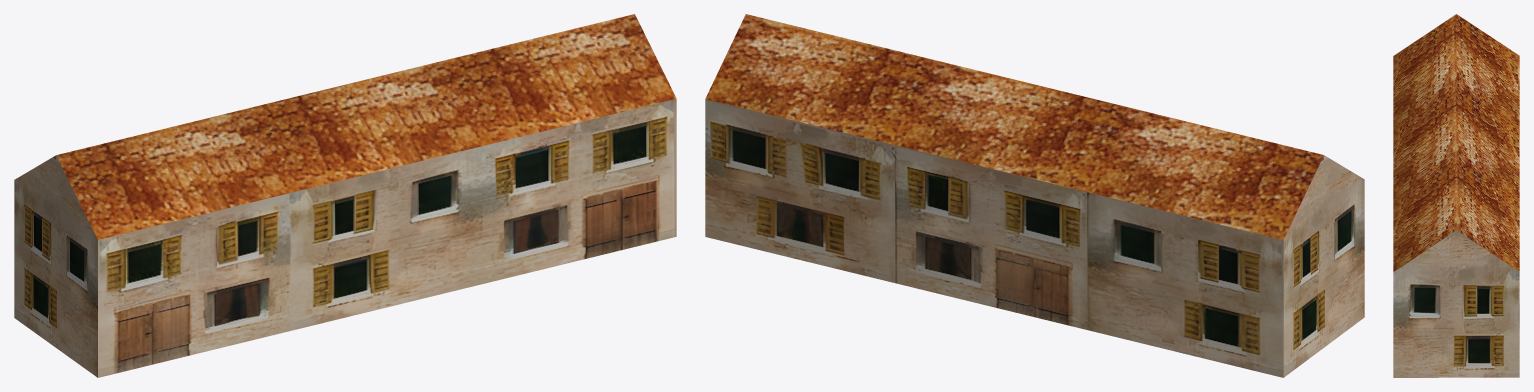
Rendered from rowhouses.gltf.
3 views of the same model, side by side, from view 1: azimuth 30°, elevation 25°; view 2: azimuth 150°, elevation 25°; view 3: azimuth 270°, elevation 25° (orthographic). The views are drawn at different scales.
Parts seen in each view (by area): view 1: rowhouses_atomic0; view 2: rowhouses_atomic0; view 3: rowhouses_atomic0.
Part boxes in pixels (left/top/right/bottom): rowhouses_atomic0: left=14, top=14, right=676, bottom=377; rowhouses_atomic0: left=705, top=14, right=1364, bottom=377; rowhouses_atomic0: left=1393, top=14, right=1519, bottom=377.
Size of the model in its own units: 62.69 by 19.91 by 15.44.
2 materials, 2 textured.
